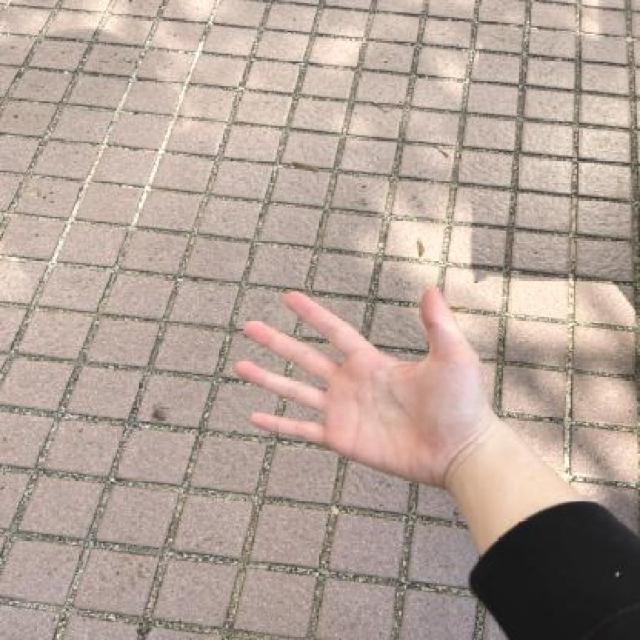no_glove: (224, 280, 501, 502)
